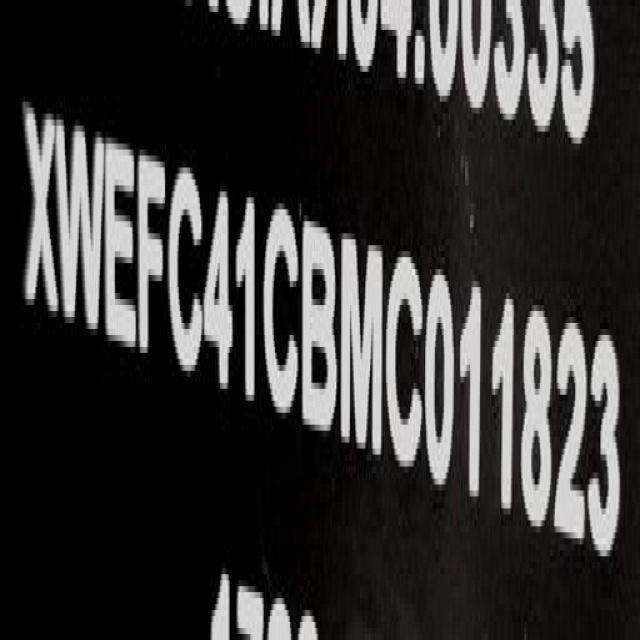0: (423, 268, 457, 501)
1: (459, 270, 482, 503), (492, 290, 515, 516), (236, 192, 258, 408)
2: (554, 312, 589, 545)
3: (587, 332, 621, 556)
4: (203, 186, 235, 399)
8: (520, 308, 554, 536)
B: (302, 217, 338, 434)
C: (384, 250, 426, 483), (262, 202, 302, 432), (167, 157, 204, 386)
E: (103, 129, 138, 361)
F: (136, 146, 165, 368)
M: (339, 224, 385, 458)
W: (56, 104, 104, 348)
X: (24, 95, 60, 326)
